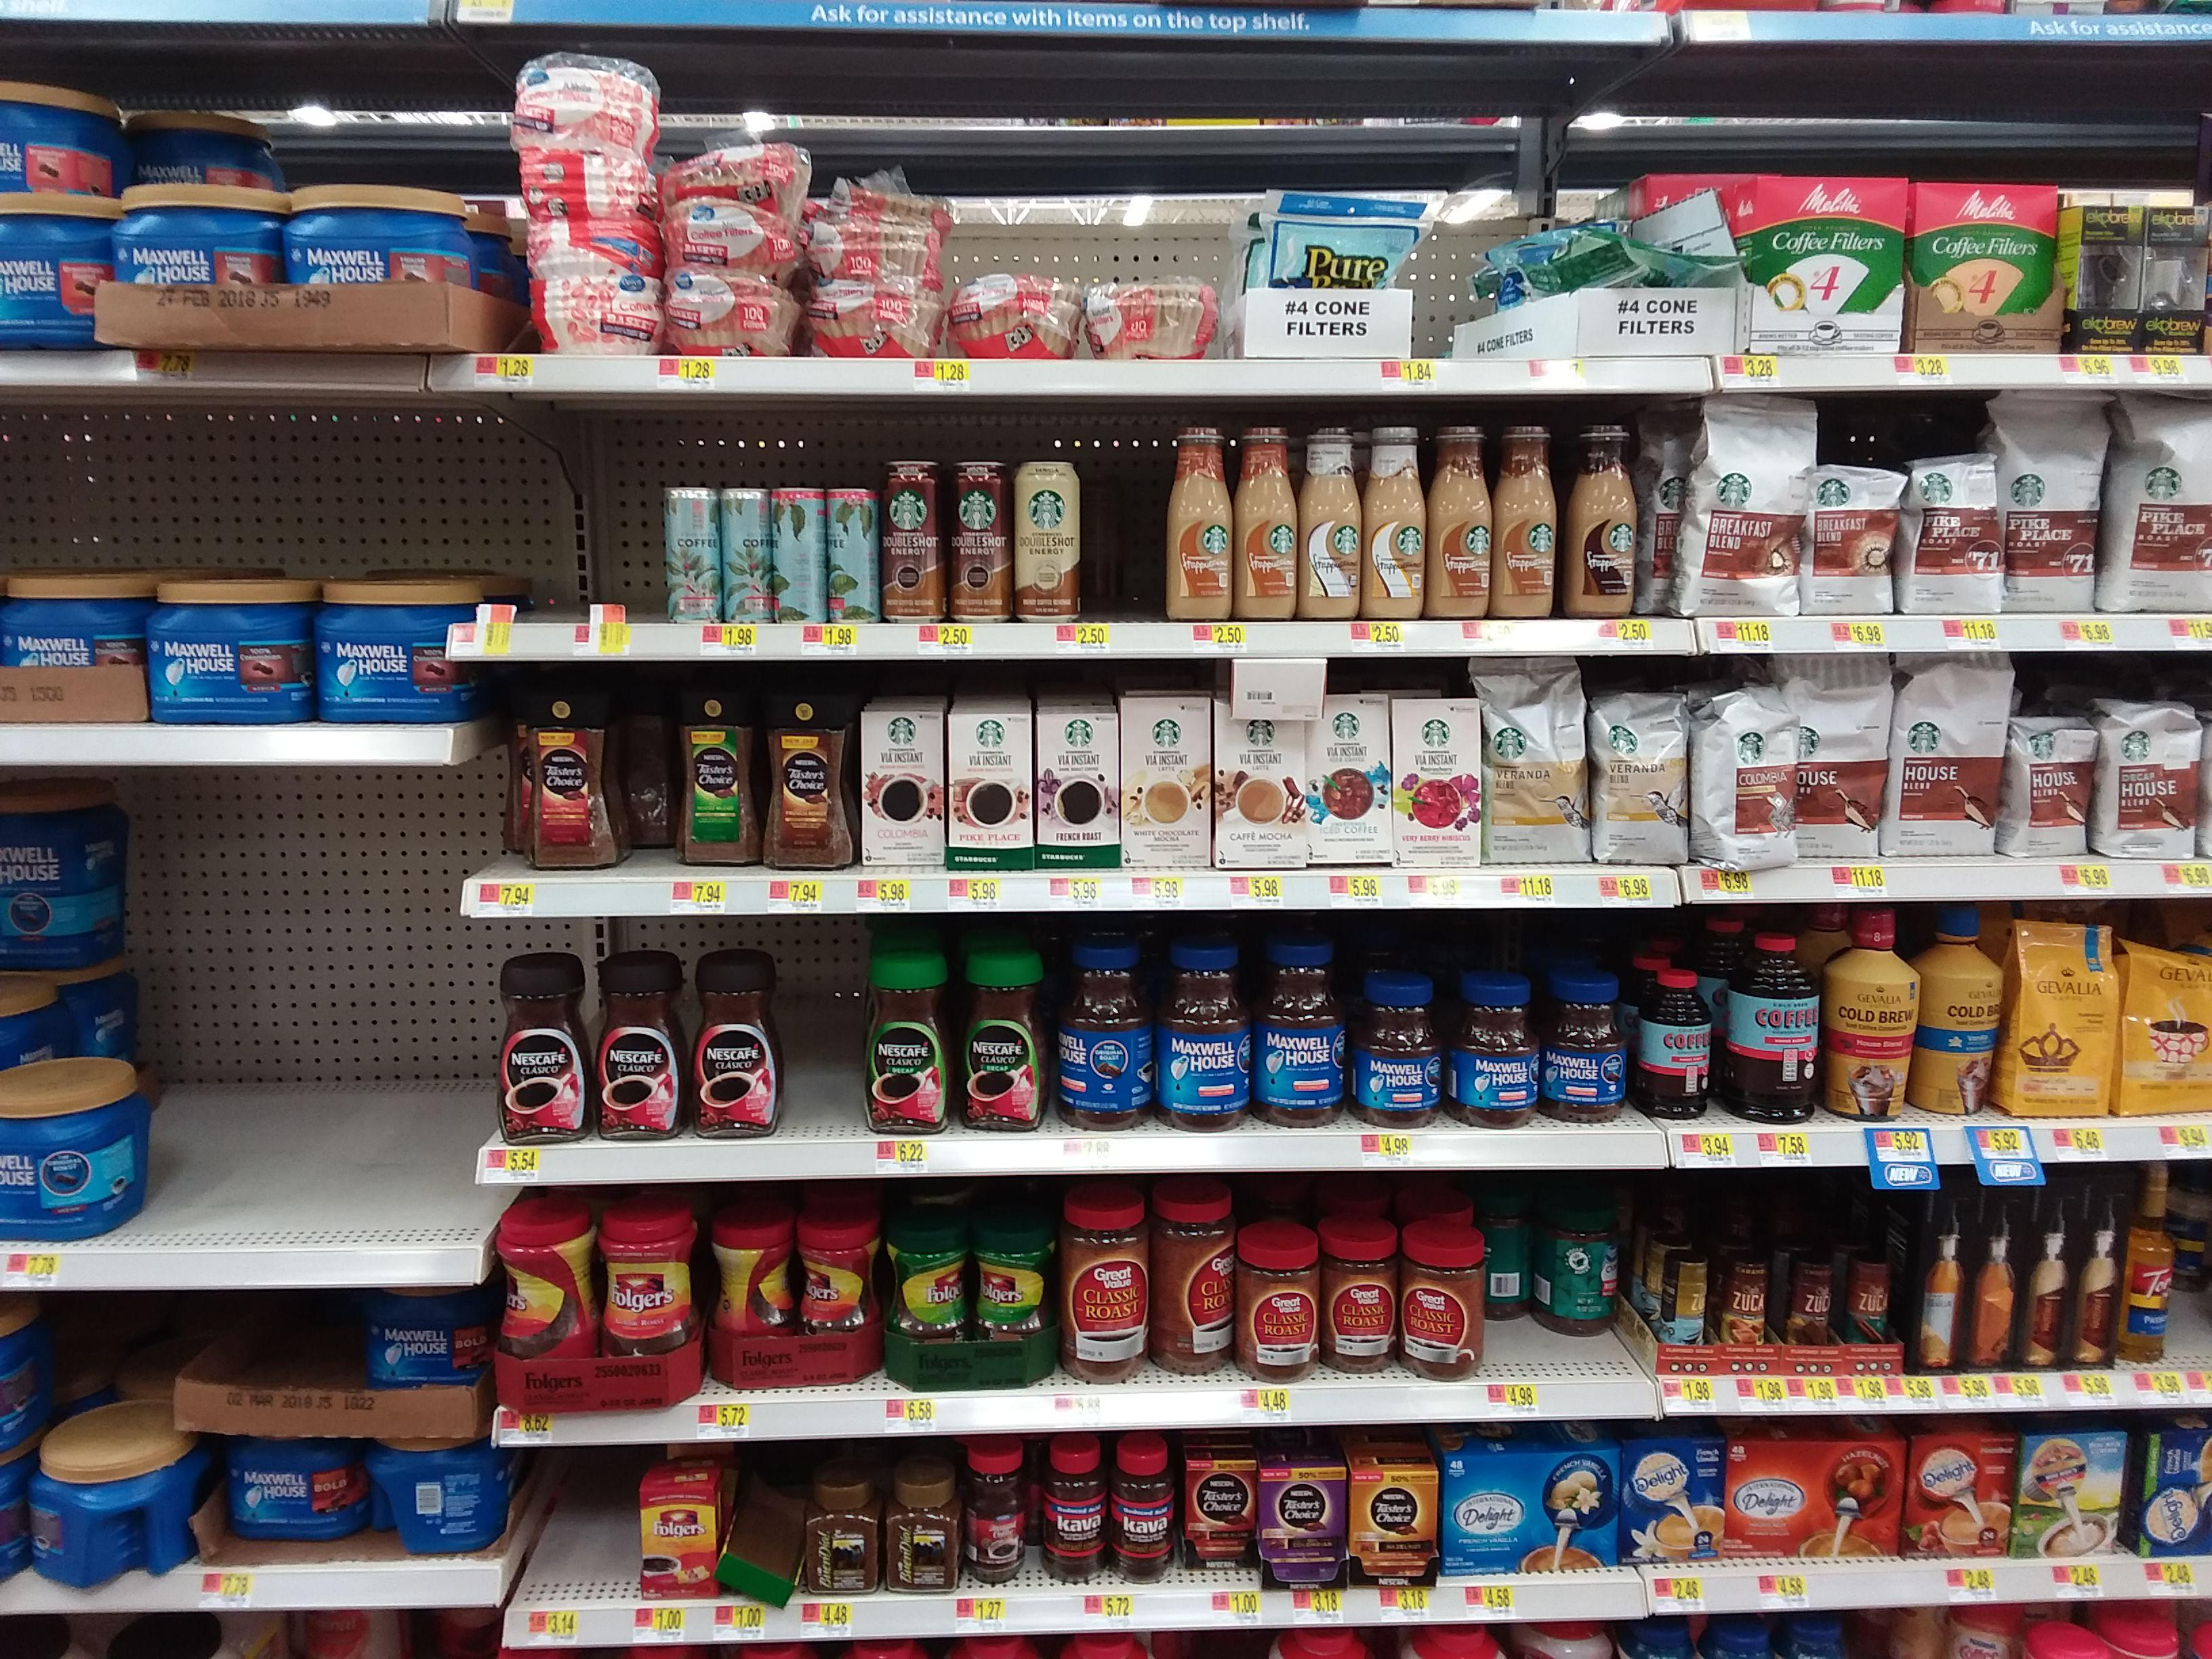empty: (179, 826, 463, 1223), (514, 450, 644, 610), (789, 946, 852, 1147), (540, 1460, 625, 1595), (1089, 450, 1151, 631)
misalignment: (1242, 185, 1463, 359), (523, 680, 672, 868), (723, 1462, 803, 1598)
